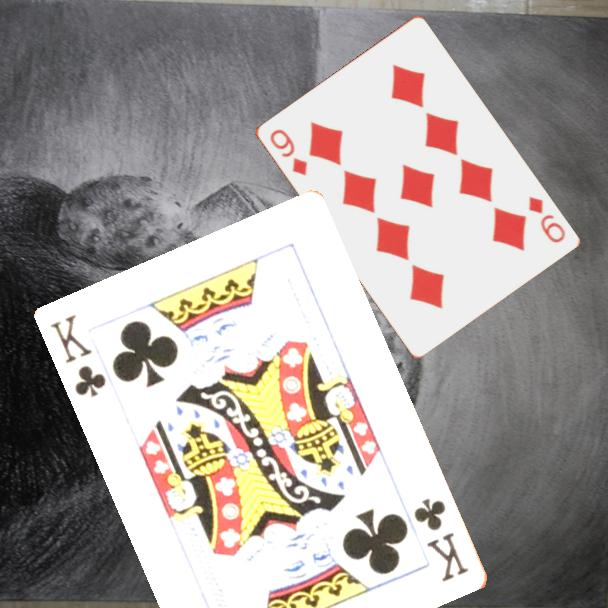c13: (47, 311, 110, 401), (411, 495, 473, 585)
d09: (266, 125, 310, 178), (525, 192, 568, 246)
